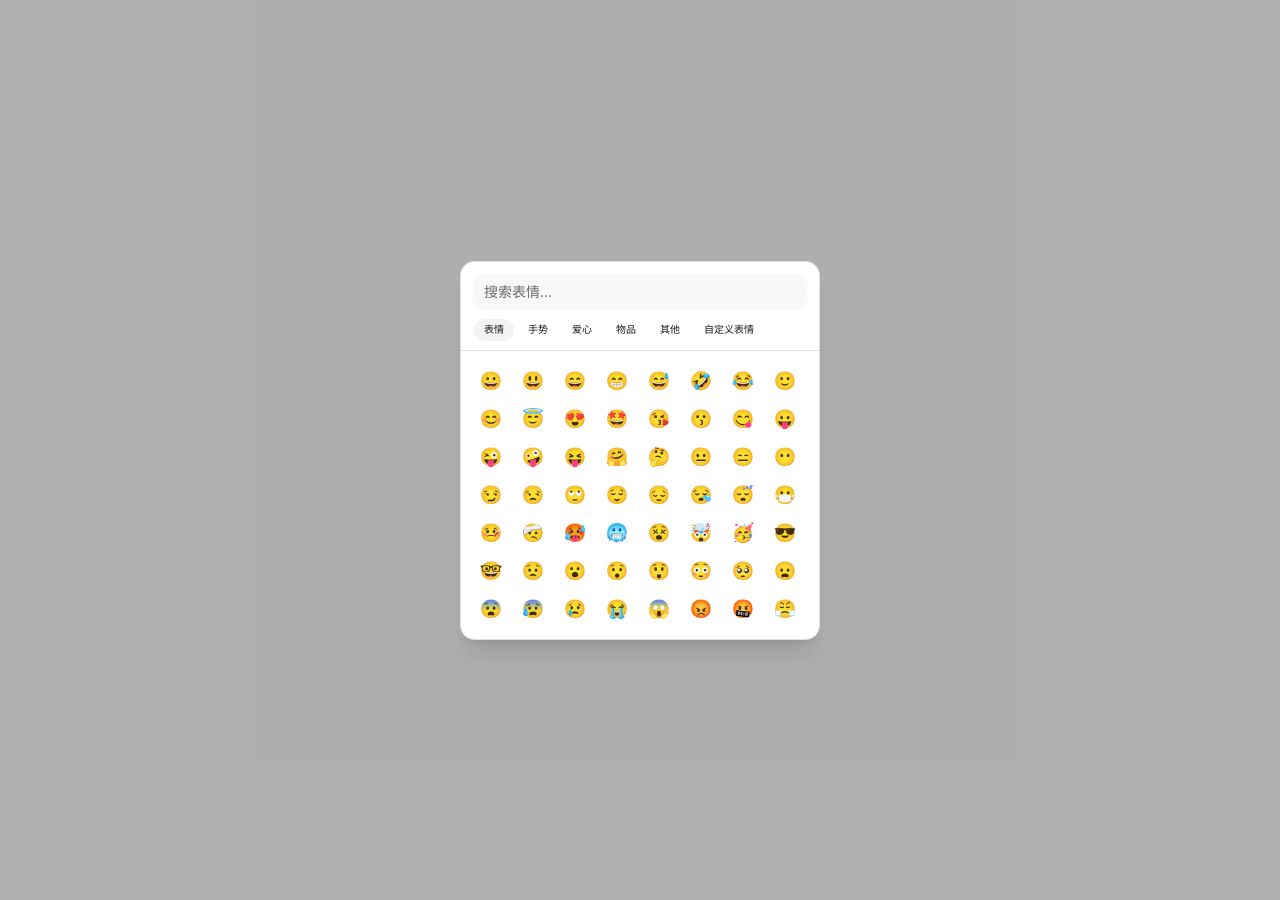
Test: EmojiPicker › search hides category tabs and shows filtered emojis
Expected: the button "手势" is shown, [517,318,559,342]
// Type to filter
Type "😀" into the field with placeholder "搜索表情..." at (640, 292), box [473,274,807,310]
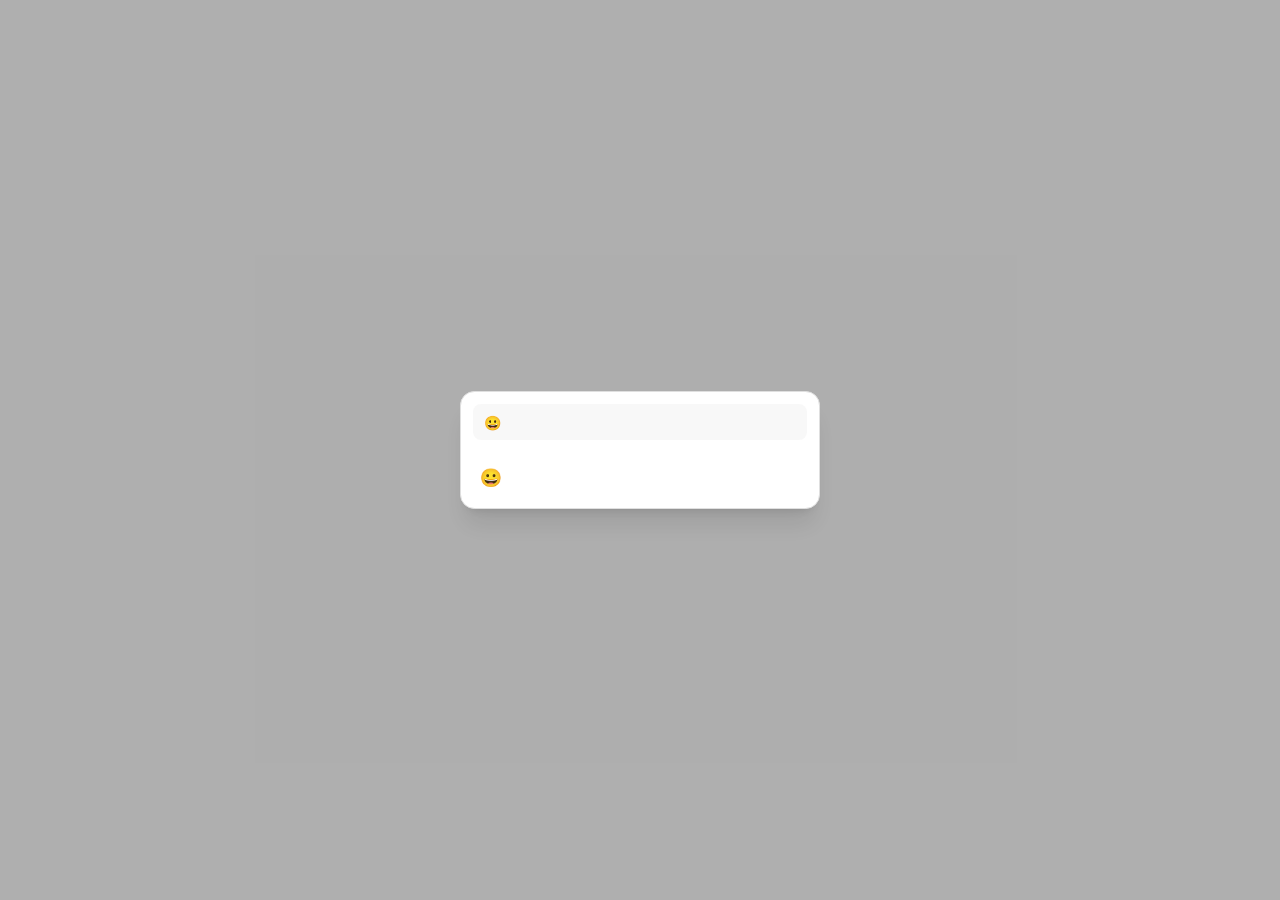
Expected: the button "😀" is shown, [473,460,509,496]
Expected: the button "手势" is gone
